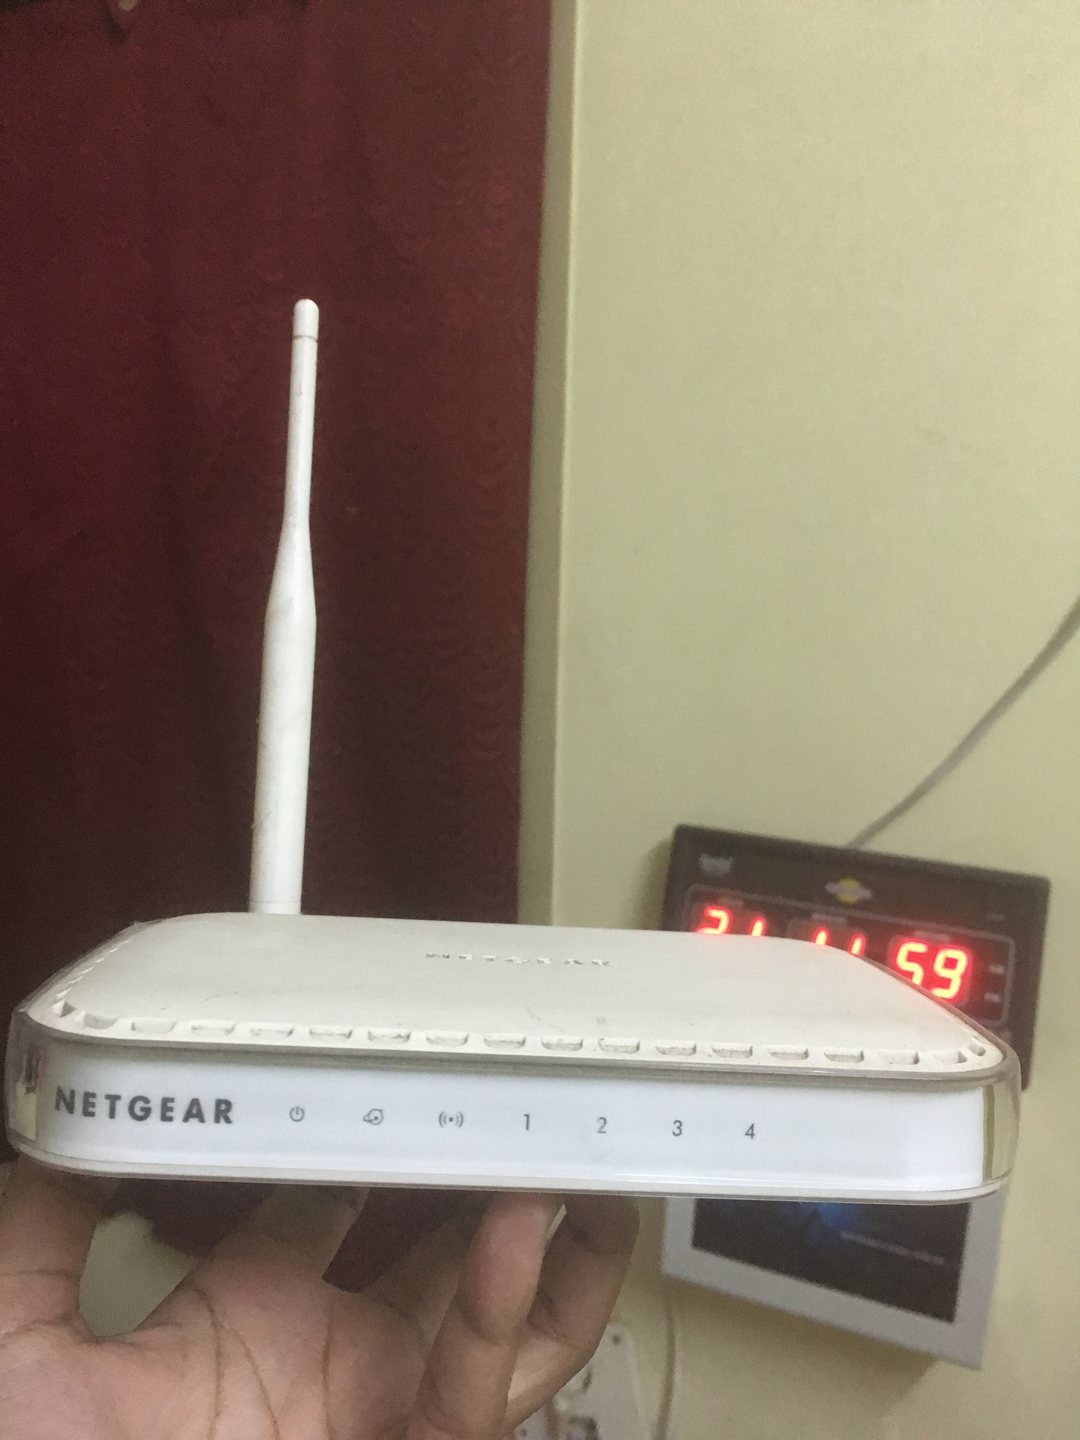NETGEAR: (50, 1079, 242, 1140)
modem: (5, 1007, 1029, 1201)
